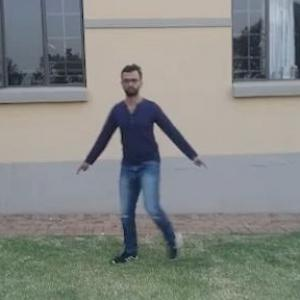land: (75, 73, 202, 249)
